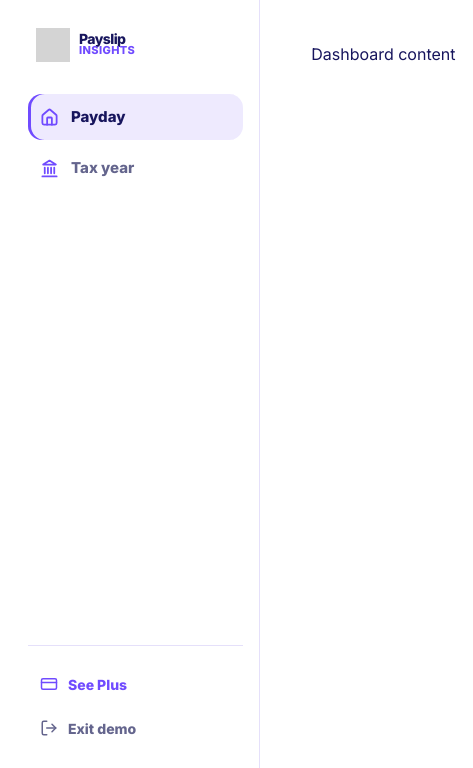
it: AppLayout demo navigation › only offers the demo-safe payday and tax-year routes and exits without a provider sign-out
Check: the link "Payday" is shown, box top-left (28, 94), bottom-right (243, 140)
Check: the link "Tax year" is shown, box top-left (40, 158), bottom-right (134, 178)
Click the button "Exit demo" at (136, 728), box top-left (40, 706), bottom-right (231, 750)
(page scrolled)
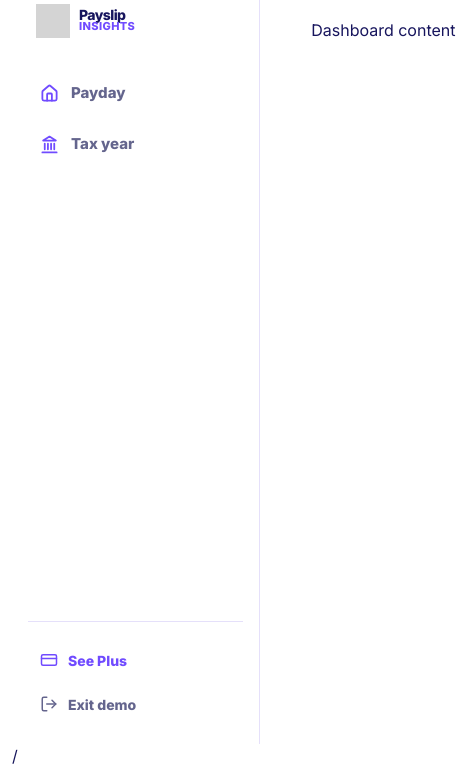
Check: the text with test id "location" reads "/", box top-left (12, 746), bottom-right (18, 766)
